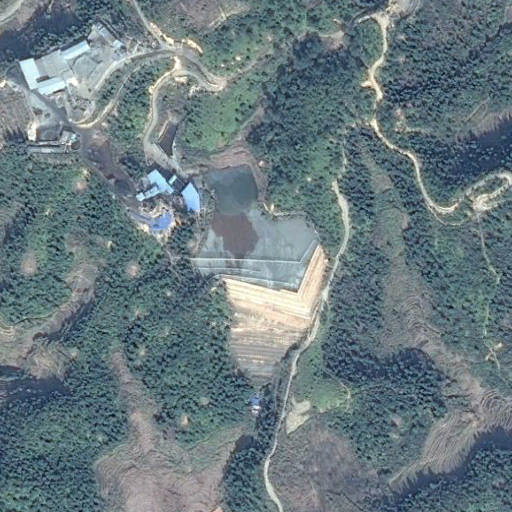tp: (181, 161, 328, 378)
